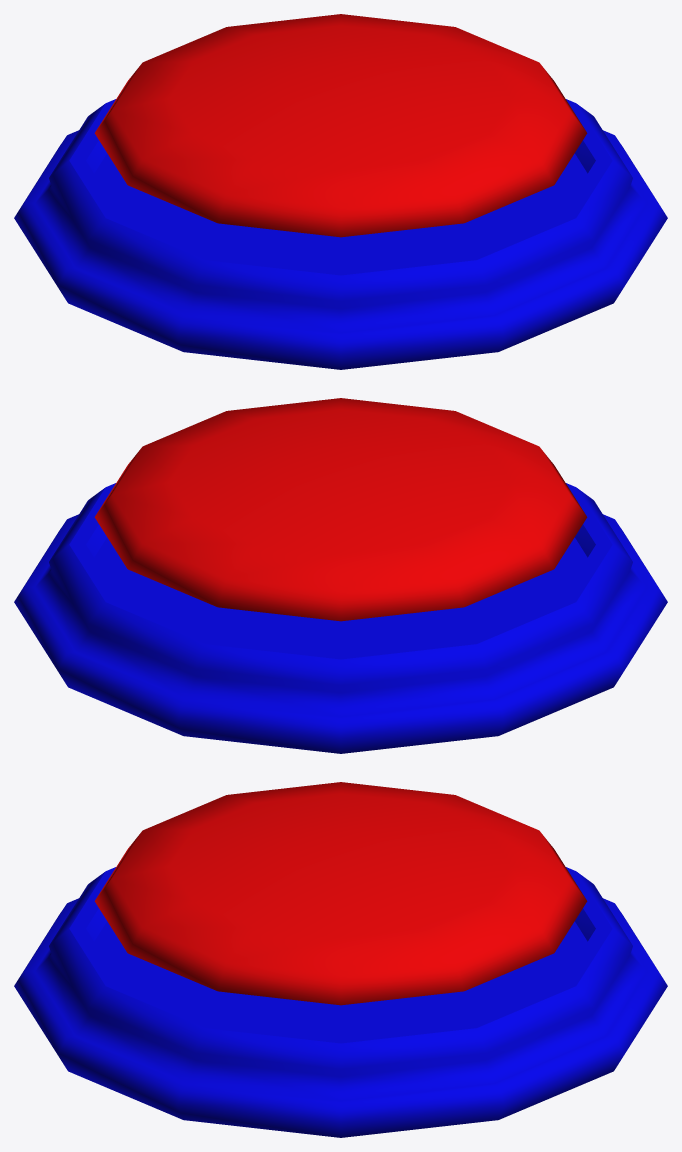
File: Button_2.0.fbx
The picture shows the model from 3 angles, top to bottom: view 1: azimuth 30°, elevation 25°; view 2: azimuth 150°, elevation 25°; view 3: azimuth 270°, elevation 25°; orthographic projection.
Parts seen in each view (by area): view 1: mesh_button_base, mesh_button_button; view 2: mesh_button_base, mesh_button_button; view 3: mesh_button_base, mesh_button_button.
Boxes of the visible parts, <box> form: mesh_button_base: <box>14,99,667,369</box>; mesh_button_button: <box>94,14,587,237</box>; mesh_button_base: <box>14,483,667,753</box>; mesh_button_button: <box>94,398,587,621</box>; mesh_button_base: <box>14,867,667,1137</box>; mesh_button_button: <box>94,782,587,1005</box>.
Size of the model in its own units: 294 by 73.86 by 294.
